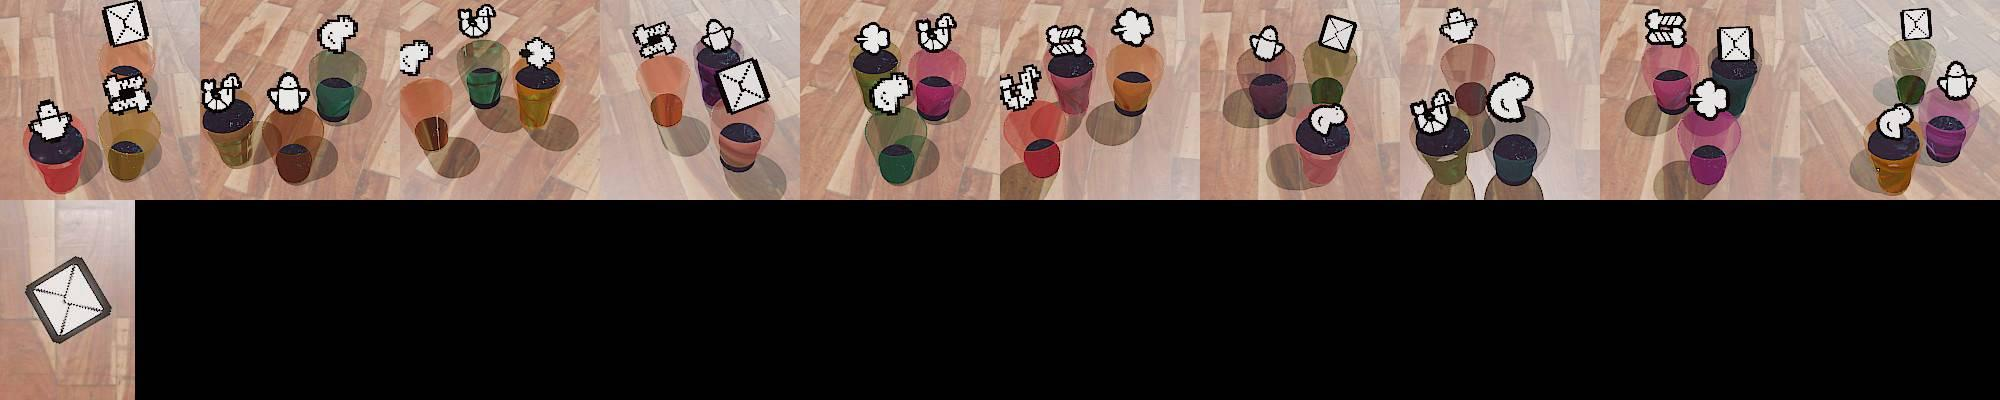icon: (23, 256, 114, 345), (717, 57, 770, 115), (1485, 71, 1534, 122), (102, 66, 152, 117), (101, 1, 151, 48), (1411, 87, 1457, 134), (997, 64, 1042, 111), (265, 70, 311, 115), (869, 71, 912, 116), (633, 19, 679, 60), (31, 98, 73, 141), (1687, 78, 1730, 121), (200, 73, 245, 113), (1934, 60, 1978, 101), (913, 13, 957, 54), (1111, 8, 1154, 47), (316, 13, 357, 54), (1644, 9, 1687, 47), (1043, 22, 1088, 59), (1319, 13, 1357, 52), (1878, 102, 1916, 140), (1437, 8, 1478, 43), (1249, 24, 1287, 61), (518, 34, 557, 70), (853, 20, 893, 55), (458, 4, 495, 39), (398, 39, 432, 76), (1718, 25, 1753, 62), (700, 18, 736, 52), (1309, 103, 1346, 136), (1902, 8, 1932, 42)
